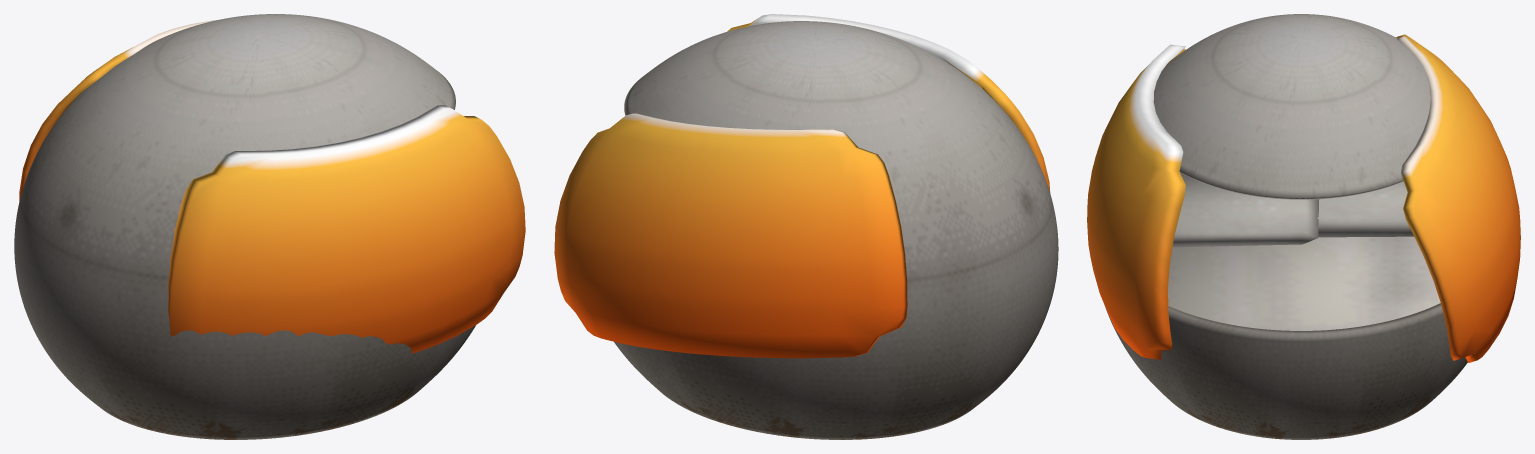
The model's file is SleepEgg.fbx.
3 views of the same model, side by side, from view 1: azimuth 30°, elevation 25°; view 2: azimuth 150°, elevation 25°; view 3: azimuth 270°, elevation 25° (orthographic). The views are drawn at different scales.
Parts seen in each view (by area): view 1: Shell.001, Window.R.001, Window.L.001; view 2: Shell.001, Window.L.001, Window.R.001; view 3: Shell.001, Window.L.001, Bed.001, Window.R.001, Pillow.L.001, Pillow.R.001.
Boxes of the visible parts, x1,y1,x2,y2 form: Shell.001: [14, 14, 475, 439]; Window.R.001: [168, 105, 525, 353]; Window.L.001: [19, 20, 216, 201]; Shell.001: [614, 21, 1058, 439]; Window.L.001: [554, 113, 907, 358]; Window.R.001: [727, 14, 1050, 192]; Shell.001: [1105, 14, 1467, 439]; Window.L.001: [1396, 34, 1520, 362]; Bed.001: [1168, 236, 1440, 330]; Window.R.001: [1087, 44, 1185, 359]; Pillow.L.001: [1172, 172, 1319, 247]; Pillow.R.001: [1317, 181, 1413, 237].
Bounding box in the file's own units: 288 × 209 × 253.
